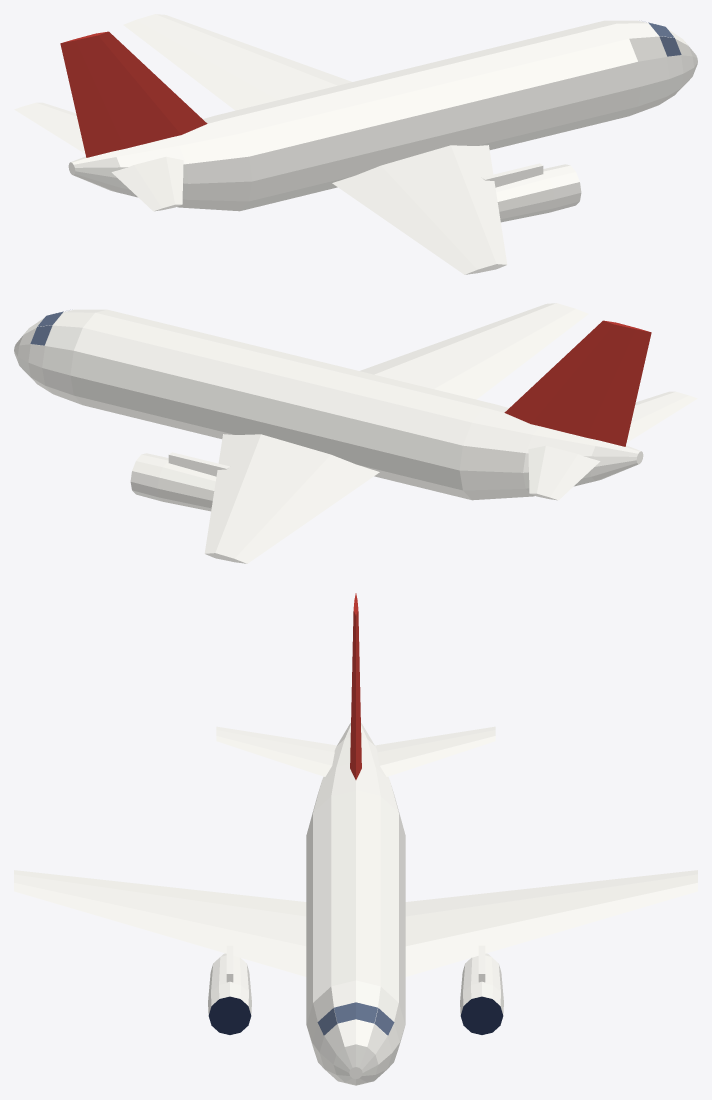
3 views of the same model, one above another, from view 1: azimuth 30°, elevation 25°; view 2: azimuth 150°, elevation 25°; view 3: azimuth 270°, elevation 25° (orthographic).
Parts seen in each view (by area): view 1: model; view 2: model; view 3: model.
Part boxes in pixels (<box>): model: <box>14,14,697,274</box>; model: <box>14,303,697,563</box>; model: <box>14,593,697,1085</box>.
Bounding box in the file's own units: 32.6 × 11.03 × 30.4.
